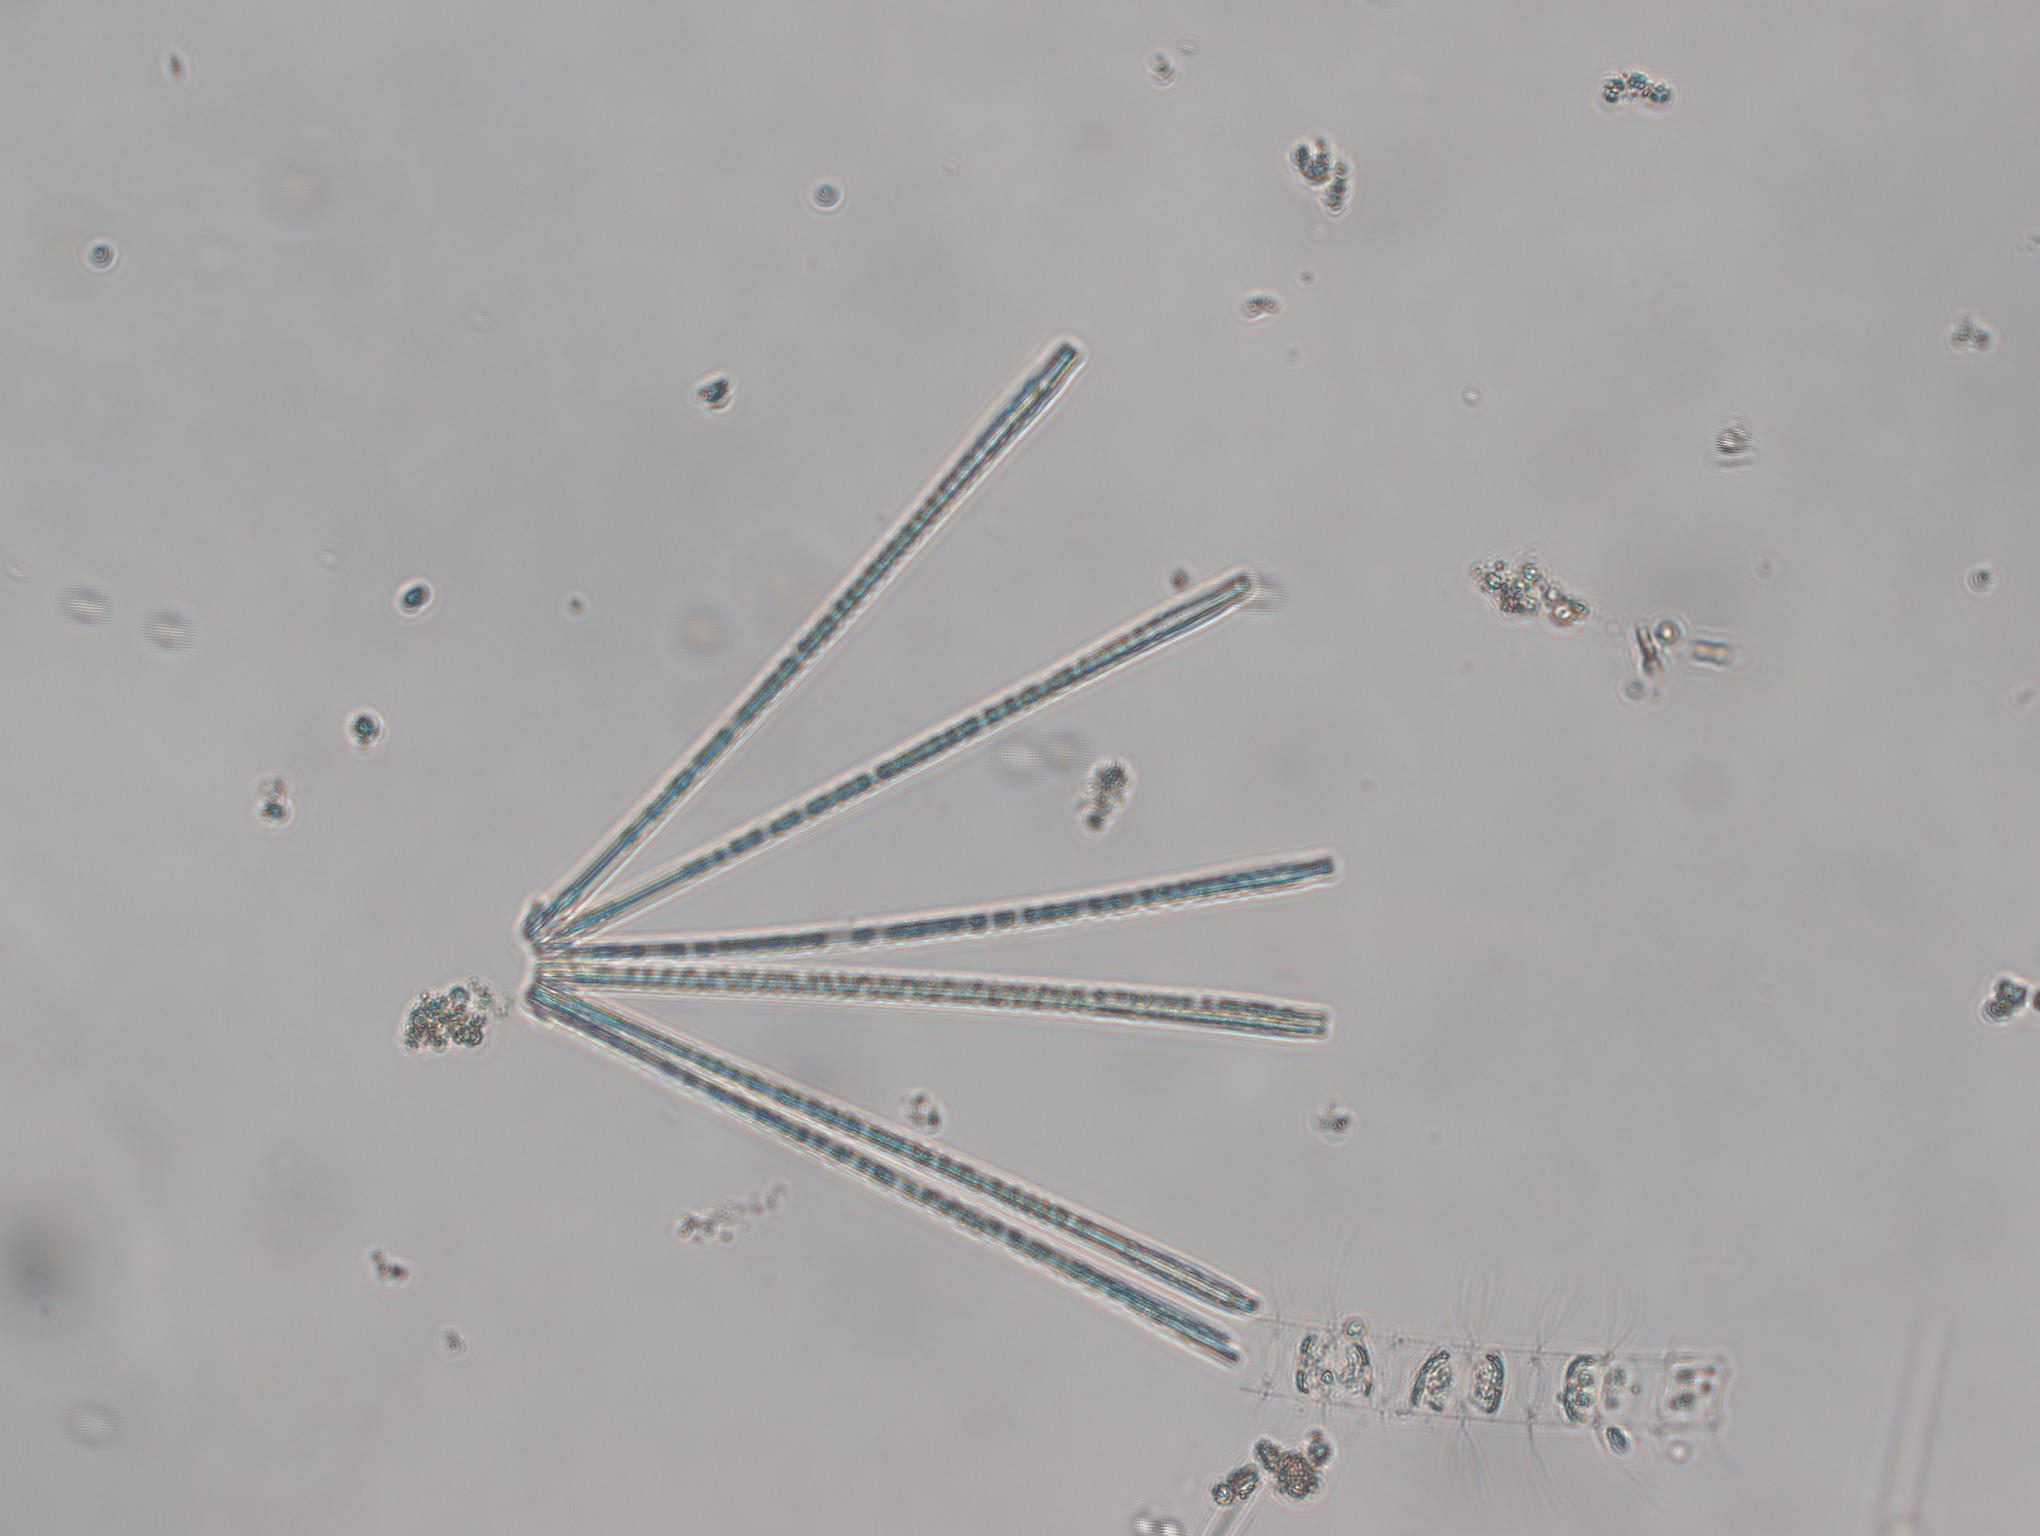chaetoceros: (1235, 1297, 1758, 1459)
thalassionema frauenfeldii: (506, 323, 1263, 1375)
